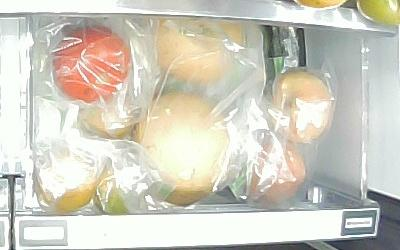peach_vinyl: (235, 134, 308, 208), (269, 70, 334, 143)
pear_vinyl: (133, 90, 232, 206), (153, 16, 246, 85)
tangerine_vinyl: (33, 143, 99, 214), (96, 158, 141, 216)
tomato_vinyl: (50, 25, 130, 104)
